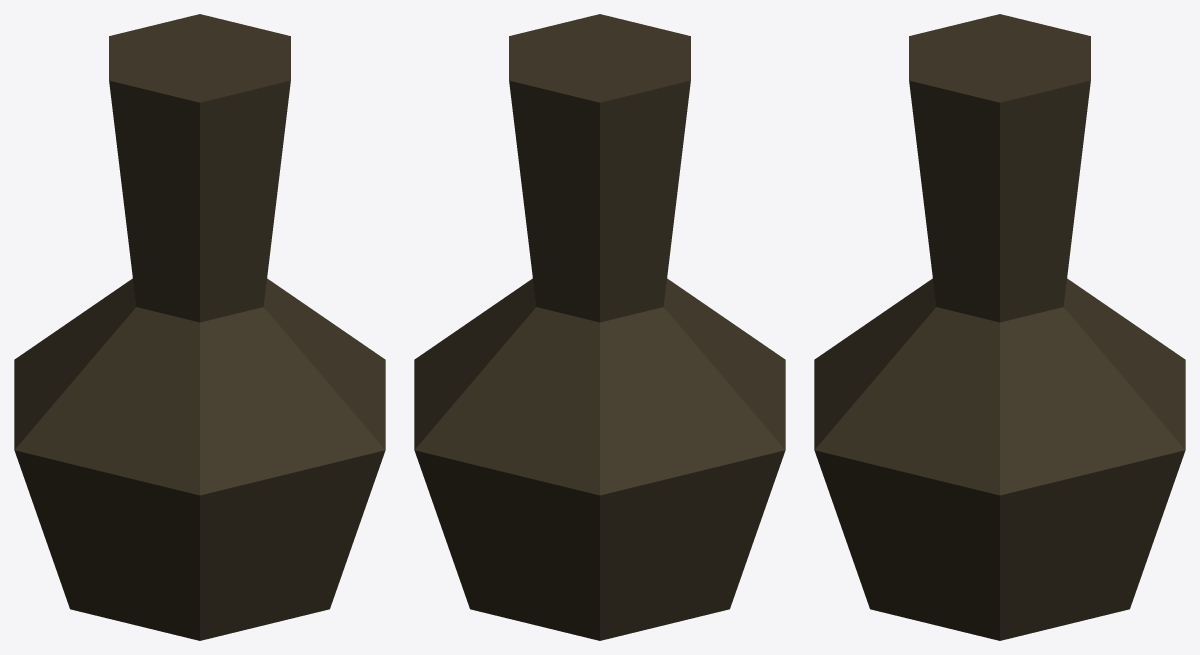
Rendered from ITMI_ALCHEMY_STONEOIL_01.OBJ.
3 views of the same model, side by side, from view 1: azimuth 30°, elevation 25°; view 2: azimuth 150°, elevation 25°; view 3: azimuth 270°, elevation 25° (orthographic).
Parts seen in each view (by area): view 1: ITMI_ALCHEMY_STONEOIL_01; view 2: ITMI_ALCHEMY_STONEOIL_01; view 3: ITMI_ALCHEMY_STONEOIL_01.
Boxes of the visible parts, left/top/right/bottom form: ITMI_ALCHEMY_STONEOIL_01: left=14, top=14, right=385, bottom=640; ITMI_ALCHEMY_STONEOIL_01: left=414, top=14, right=785, bottom=640; ITMI_ALCHEMY_STONEOIL_01: left=814, top=14, right=1185, bottom=640.
Size of the model in its own units: 0.15 by 0.2005 by 0.1299.
